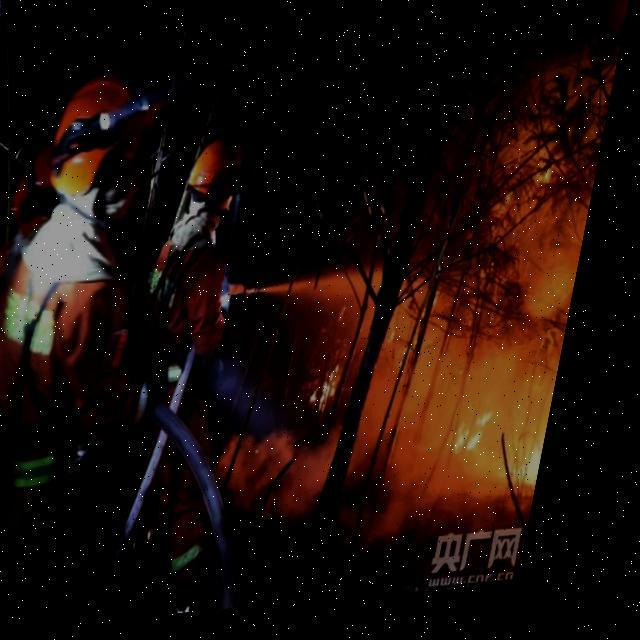Fire: (467, 412, 518, 477), (319, 359, 362, 433), (521, 437, 564, 508)
